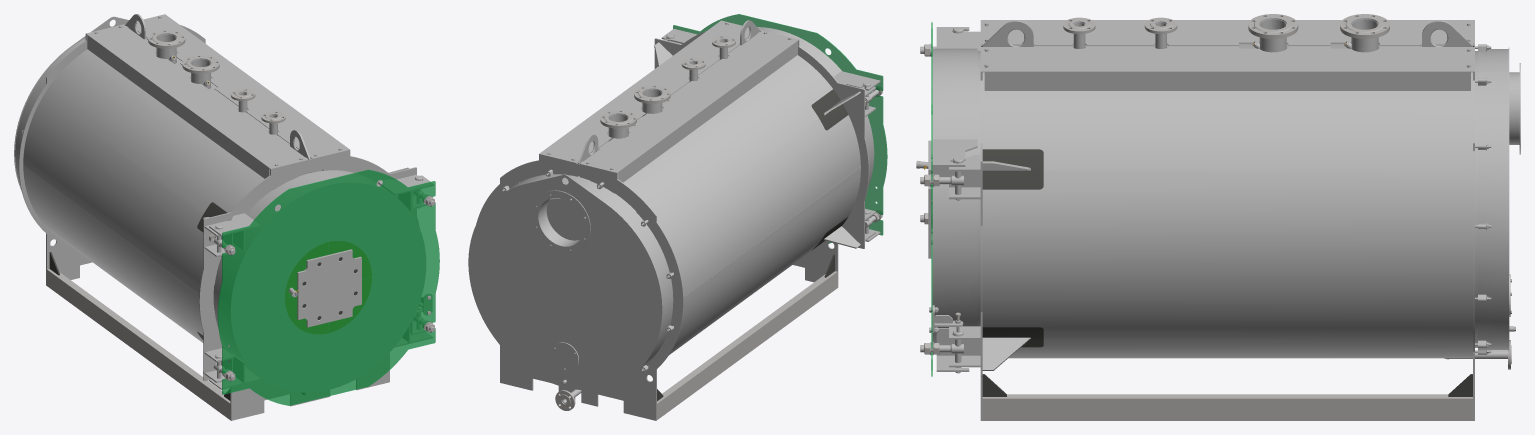
Rendered from e-1000-20260925-C5KayICW.glb.
3 renders of one model, left to right at view 1: azimuth 30°, elevation 25°; view 2: azimuth 150°, elevation 25°; view 3: azimuth 270°, elevation 25°, orthographic. The views are drawn at different scales.
Visible parts, largest first — view 1: PR.05.01.01.017 Лист ФД:1, PR.01.01.01.037 Обшивка корпуса:1, PR.08.01.01.003 Изоляция ФД:1, PR.05.01.01.032-01 Лист площадки:2, PR.05.01.01.009-01 Лист ФО:2, PR.05.01.01.032-00 Лист площадки:1, ГОСТ 8240-97 12P-2404:2, PR.01.01.01.008-00 Обечайка ФД и ЗК:1, PR.05.01.01.022-00 Плита горелки:1, SOLID (×3), PR.05.01.01.033-00 Ребро площадки:2, PR.05.01.01.010-01 Лист ЗО:2 (+5 smaller); view 2: PR.01.01.01.037 Обшивка корпуса:1, PR.05.01.01.023 Лист ЗК:1, PR.05.01.01.032-01 Лист площадки:2, PR.05.01.01.010-01 Лист ЗО:2, PR.05.01.01.032-00 Лист площадки:1, ГОСТ 8240-97 12P-2404:2, PR.05.01.01.009-01 Лист ФО:2, PR.05.01.01.017 Лист ФД:1, PR.01.01.01.008-01 Обечайка ФД и ЗК:1, PR.05.01.01.033-00 Ребро площадки:2, PR.05.01.01.010 Лист ЗО:1, PR.05.01.01.025-00 Фланец патрубка ЗК:1 (+9 smaller); view 3: PR.01.01.01.037 Обшивка корпуса:1, ГОСТ 8240-97 12P-2404:1, PR.05.01.01.032-00 Лист площадки:1, PR.01.01.01.008-00 Обечайка ФД и ЗК:1, PR.05.01.01.033-00 Ребро площадки:1, PR.01.01.01.008-01 Обечайка ФД и ЗК:1, PR.05.01.01.032-01 Лист площадки:2, PR.05.01.01.082-00 Накладка обшивки:1, PR.01.01.01.004-00 Обечайка корпуса:1, SOLID (×2), PR.03.01.01.002-00 Труба входа и выхода:1 (×2), PR.05.01.01.015-00 Ребро корпуса:2 (+10 smaller).
Boxes of the visible parts, left/top/right/bottom form: PR.05.01.01.017 Лист ФД:1: left=217, top=169, right=439, bottom=405; PR.01.01.01.037 Обшивка корпуса:1: left=23, top=32, right=298, bottom=342; PR.08.01.01.003 Изоляция ФД:1: left=231, top=183, right=425, bottom=391; PR.05.01.01.032-01 Лист площадки:2: left=86, top=24, right=308, bottom=169; PR.05.01.01.009-01 Лист ФО:2: left=199, top=159, right=310, bottom=420; PR.05.01.01.032-00 Лист площадки:1: left=136, top=14, right=349, bottom=159; ГОСТ 8240-97 12P-2404:2: left=47, top=269, right=230, bottom=419; PR.01.01.01.008-00 Обечайка ФД и ЗК:1: left=214, top=170, right=390, bottom=392; PR.05.01.01.022-00 Плита горелки:1: left=297, top=249, right=361, bottom=327; SOLID (×3): left=148, top=30, right=371, bottom=333; PR.05.01.01.033-00 Ребро площадки:2: left=87, top=35, right=269, bottom=178; PR.05.01.01.010-01 Лист ЗО:2: left=18, top=24, right=125, bottom=285; PR.01.01.01.037 Обшивка корпуса:1: left=589, top=38, right=860, bottom=354; PR.05.01.01.023 Лист ЗК:1: left=468, top=174, right=662, bottom=390; PR.05.01.01.032-01 Лист площадки:2: left=580, top=30, right=798, bottom=173; PR.05.01.01.010-01 Лист ЗО:2: left=578, top=163, right=683, bottom=420; PR.05.01.01.032-00 Лист площадки:1: left=539, top=20, right=749, bottom=163; ГОСТ 8240-97 12P-2404:2: left=657, top=271, right=837, bottom=419; PR.05.01.01.009-01 Лист ФО:2: left=760, top=30, right=869, bottom=287; PR.05.01.01.017 Лист ФД:1: left=673, top=14, right=887, bottom=243; PR.01.01.01.008-01 Обечайка ФД и ЗК:1: left=509, top=174, right=673, bottom=368; PR.05.01.01.033-00 Ребро площадки:2: left=618, top=41, right=797, bottom=182; PR.05.01.01.010 Лист ЗО:1: left=476, top=154, right=577, bottom=400; PR.05.01.01.025-00 Фланец патрубка ЗК:1: left=532, top=190, right=590, bottom=253; PR.01.01.01.037 Обшивка корпуса:1: left=982, top=43, right=1472, bottom=358; ГОСТ 8240-97 12P-2404:1: left=982, top=394, right=1472, bottom=420; PR.05.01.01.032-00 Лист площадки:1: left=980, top=46, right=1474, bottom=72; PR.01.01.01.008-00 Обечайка ФД и ЗК:1: left=932, top=48, right=977, bottom=342; PR.05.01.01.033-00 Ребро площадки:1: left=984, top=72, right=1470, bottom=90; PR.01.01.01.008-01 Обечайка ФД и ЗК:1: left=1478, top=49, right=1508, bottom=350; PR.05.01.01.032-01 Лист площадки:2: left=980, top=20, right=1474, bottom=45; PR.05.01.01.082-00 Накладка обшивки:1: left=982, top=149, right=1043, bottom=189; PR.01.01.01.004-00 Обечайка корпуса:1: left=977, top=51, right=1477, bottom=347; SOLID (×2): left=1248, top=14, right=1389, bottom=38; PR.03.01.01.002-00 Труба входа и выхода:1 (×2): left=1259, top=19, right=1378, bottom=52; PR.05.01.01.015-00 Ребро корпуса:2: left=982, top=337, right=1029, bottom=370.
Bounding box in the file's own units: 1.68 × 1.88 × 2.96.
